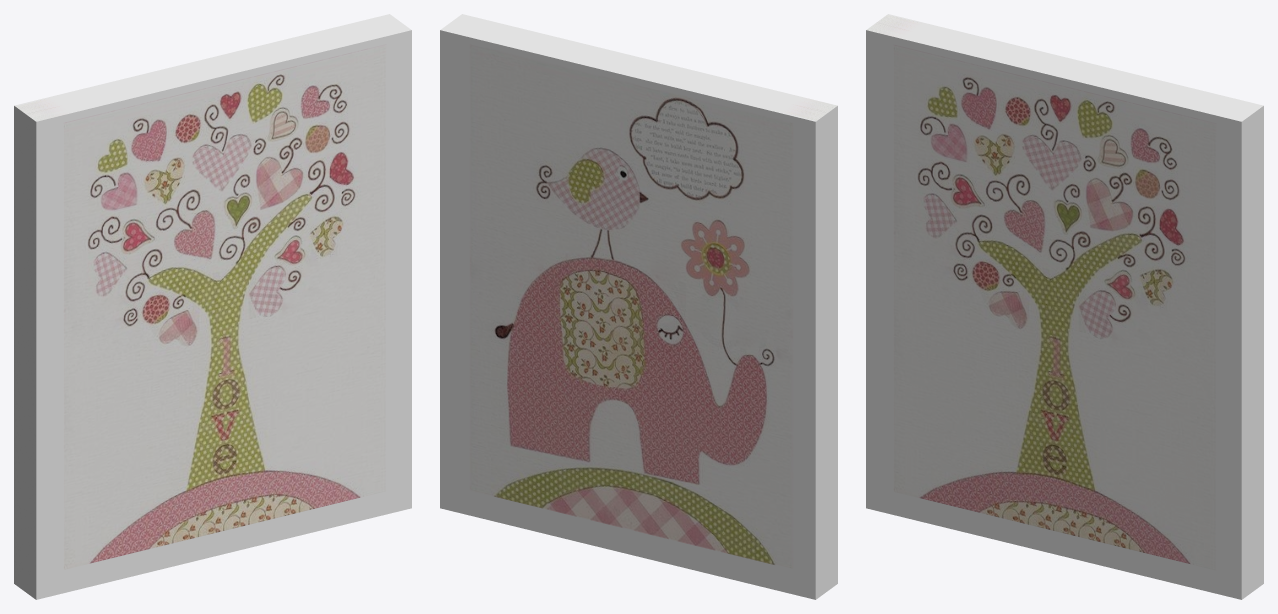
Rendered from Picture 6.FBX.
3 views of the same model, side by side, from view 1: azimuth 30°, elevation 25°; view 2: azimuth 150°, elevation 25°; view 3: azimuth 330°, elevation 25° (orthographic).
Parts seen in each view (by area): view 1: picture 6; view 2: picture 6; view 3: picture 6.
Part boxes in pixels (left/top/right/bottom): picture 6: left=14, top=14, right=411, bottom=599; picture 6: left=440, top=14, right=837, bottom=599; picture 6: left=866, top=14, right=1263, bottom=599.
Bounding box in the file's own units: 33.74 × 41.04 × 3.43.
